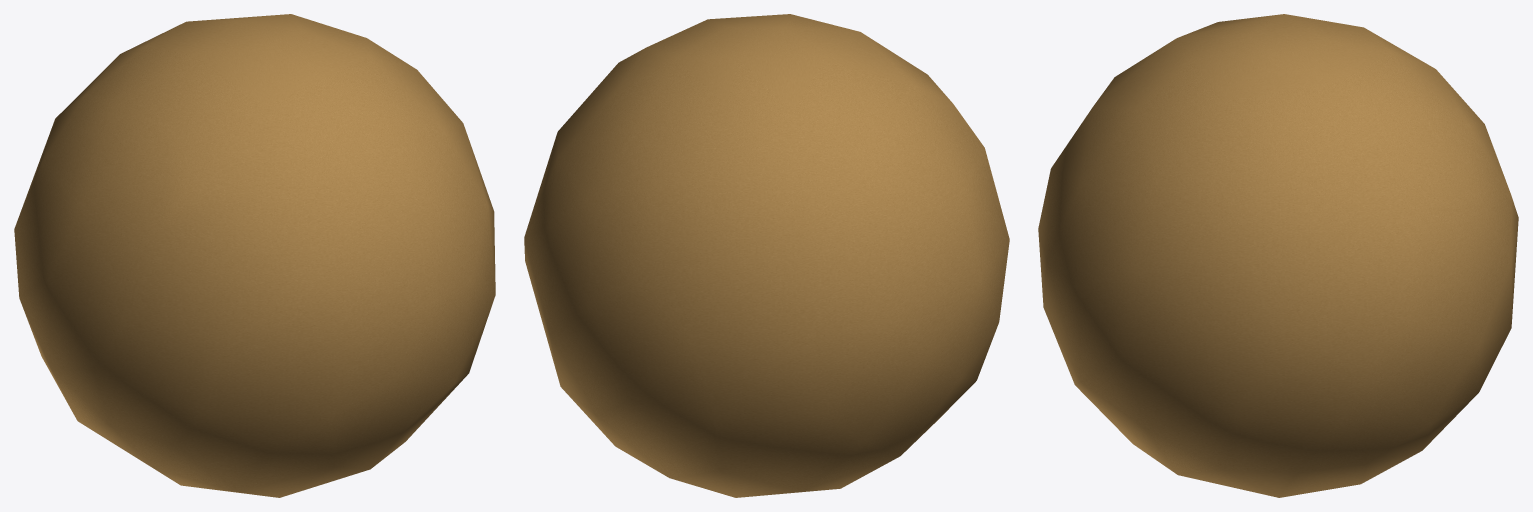
Rendered from Desert.fbx.
3 renders of one model, left to right at view 1: azimuth 30°, elevation 25°; view 2: azimuth 150°, elevation 25°; view 3: azimuth 270°, elevation 25°, orthographic.
Parts seen in each view (by area): view 1: Sphere; view 2: Sphere; view 3: Sphere.
Boxes of the visible parts, <box> form: Sphere: <box>14,14,495,497</box>; Sphere: <box>524,14,1009,497</box>; Sphere: <box>1038,14,1518,497</box>.
Bounding box in the file's own units: 2.01 × 2 × 1.99.
